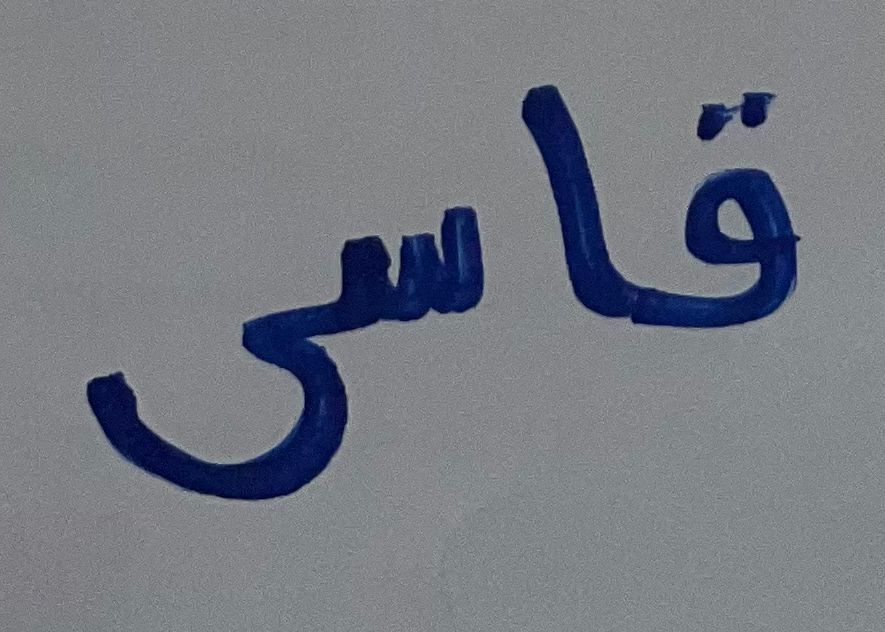alef: (510, 55, 645, 339)
lam: (46, 332, 356, 509)
qaf: (659, 70, 814, 347)
seen: (294, 195, 496, 326)
